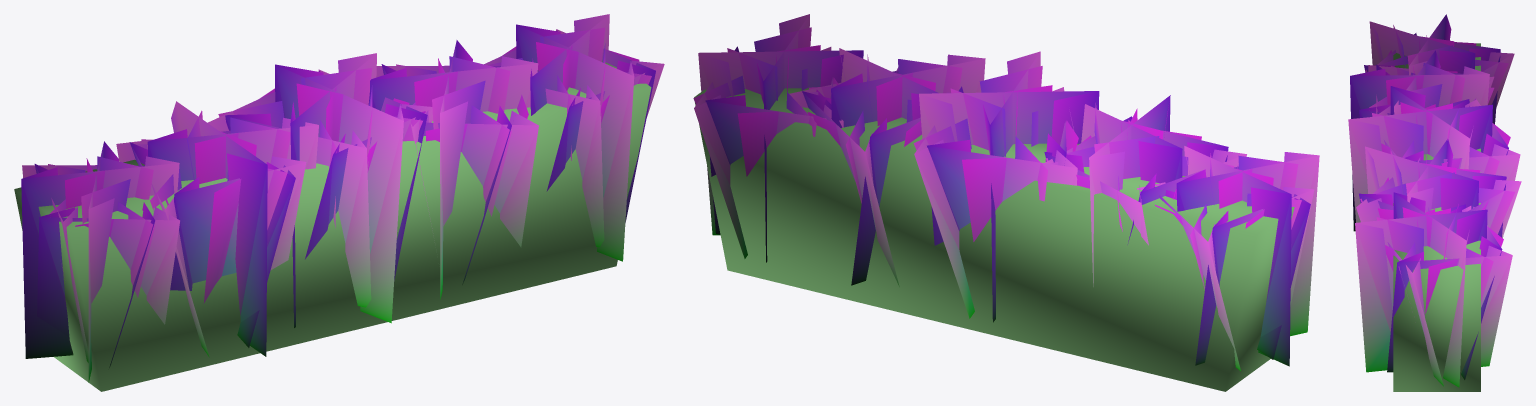
The model's file is tall_plant.dae.
3 views of the same model, side by side, from view 1: azimuth 30°, elevation 25°; view 2: azimuth 150°, elevation 25°; view 3: azimuth 270°, elevation 25° (orthographic). The views are drawn at different scales.
Parts seen in each view (by area): view 1: tall_plant_a700, Colmesh-1, tall_plant_a140; view 2: Colmesh-1, tall_plant_a700, tall_plant_a140; view 3: tall_plant_a700, tall_plant_a140, Colmesh-1.
Part boxes in pixels (<box>): tall_plant_a700: <box>21,14,663,367</box>; Colmesh-1: <box>14,60,651,391</box>; tall_plant_a140: <box>21,14,664,382</box>; Colmesh-1: <box>694,88,1294,391</box>; tall_plant_a700: <box>693,14,1319,370</box>; tall_plant_a140: <box>694,14,1319,366</box>; tall_plant_a700: <box>1348,14,1521,387</box>; tall_plant_a140: <box>1348,14,1521,379</box>; Colmesh-1: <box>1393,43,1480,391</box>.
Bounding box in the file's own units: 7.74 × 2.34 × 2.66.
